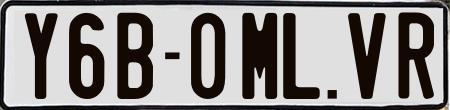0: (190, 10, 229, 102)
6: (68, 11, 106, 97)
B: (116, 12, 153, 98)
L: (280, 12, 319, 100)
M: (240, 13, 281, 105)
R: (398, 9, 436, 100)
V: (348, 12, 386, 101)
Y: (22, 12, 57, 104)
